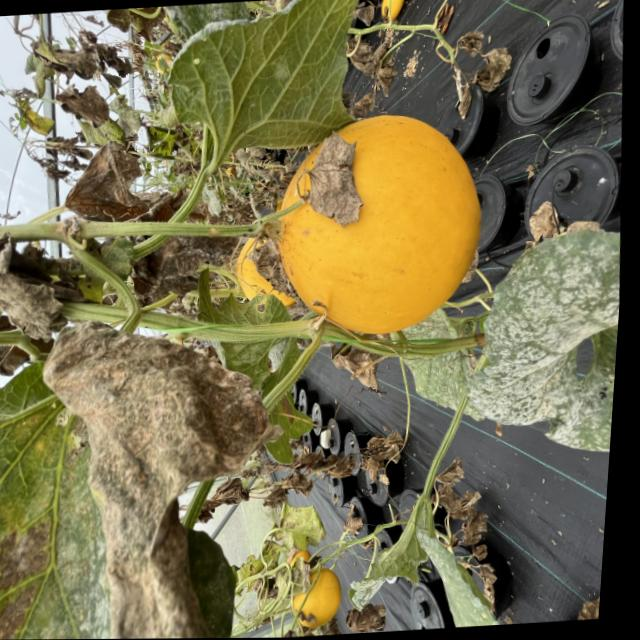bacterial wilt: (0, 309, 249, 640), (0, 224, 76, 352), (64, 132, 142, 226), (298, 132, 366, 232), (131, 236, 206, 300), (421, 469, 470, 527), (332, 347, 378, 399), (295, 451, 361, 487), (245, 246, 286, 297), (56, 89, 102, 133), (475, 45, 515, 89), (338, 601, 386, 634), (361, 437, 401, 467)
downy mildew: (152, 0, 372, 191)
powdery mildew: (465, 212, 626, 479), (411, 508, 514, 630), (400, 303, 479, 412)
